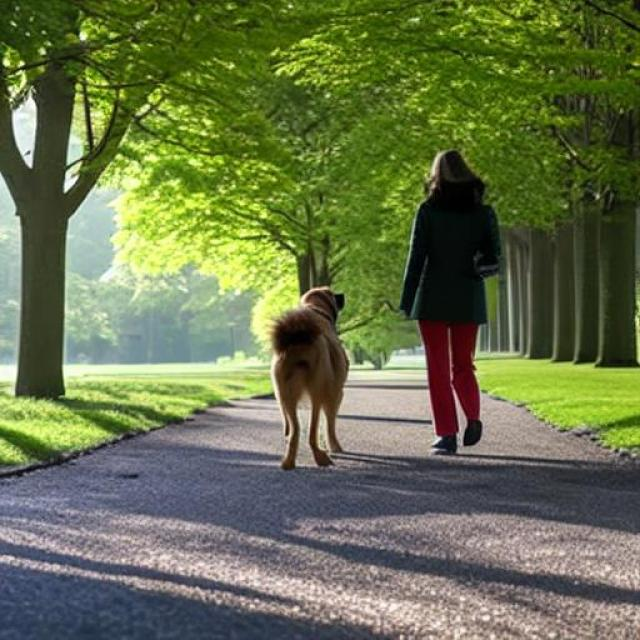Unleashed_Dog: (265, 288, 481, 471)
